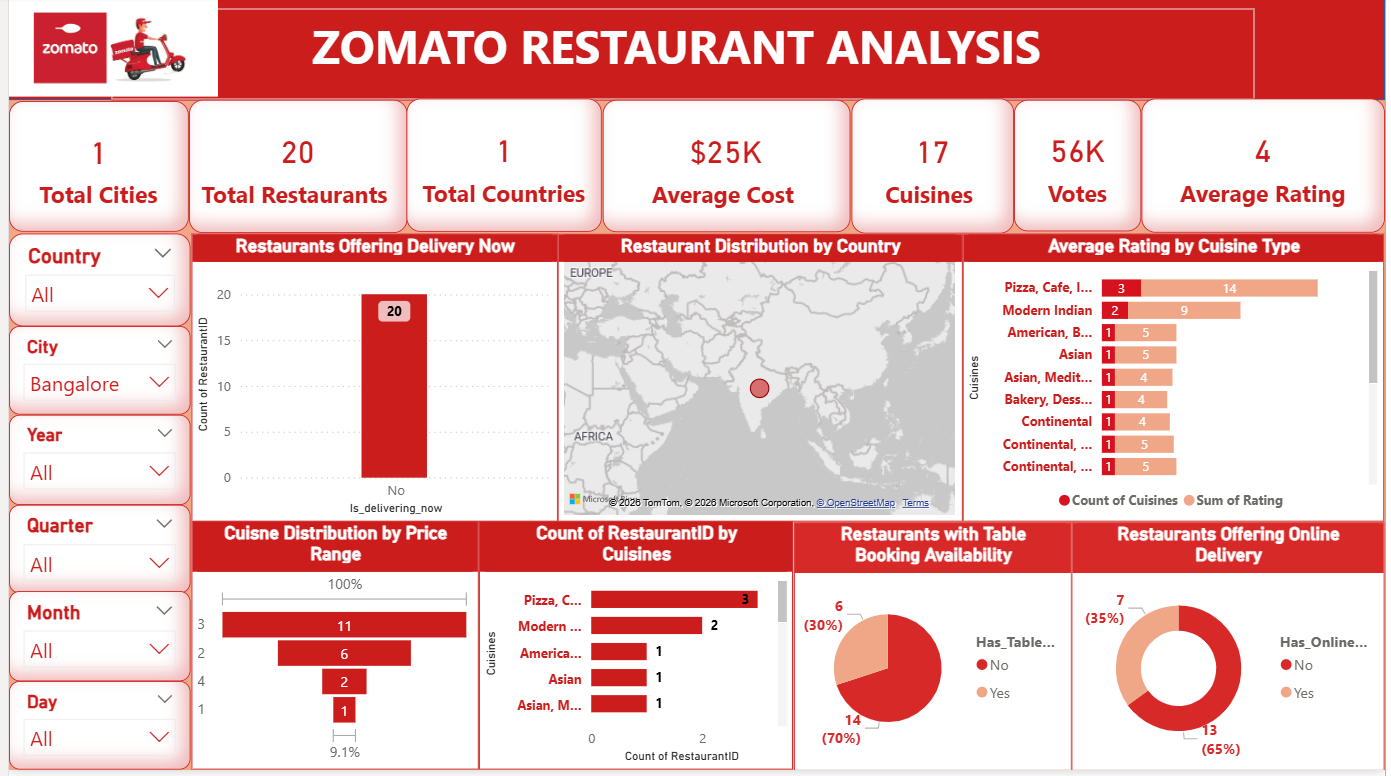

What the dashboard file says about the page in this screenshot:
{"tool":"powerbi","page":{"name":"Dashboard","canvas":[1280,720],"ordinal":0},"visuals":[{"type":"shape","box":[0,0,1280.3,97],"z":0},{"type":"textbox","box":[95.7,11.2,1062.7,85.8],"z":1000},{"type":"card","fields":{"Values":["Count(Main.RestaurantID)"]},"box":[167.2,96.7,202.9,124.1],"z":2000},{"type":"card","fields":{"Values":["Count(Main.City)"]},"box":[0,97.8,167.2,122],"z":3000},{"type":"card","fields":{"Values":["Count(Main.CountryCode)"]},"box":[370.1,95.7,181.9,124.1],"z":4000},{"type":"card","fields":{"Values":["Count(Main.Cuisines)"]},"box":[783.8,95.9,151,125.8],"z":5000},{"type":"slicer","fields":{"Values":["Main.Countryname"]},"box":[0,220.5,169,86.3],"z":6000},{"type":"card","fields":{"Values":["Sum(Main.Average_Cost_for_two)"]},"box":[552.5,97.1,230.1,123.4],"z":7000},{"type":"slicer","fields":{"Values":["Main.City"]},"box":[0,307.3,168.8,82.2],"z":8000},{"type":"slicer","fields":{"Values":["Main.Year Opening"]},"box":[0,389.5,168.8,83.7],"z":9000},{"type":"slicer","fields":{"Values":["Main.Quarter"]},"box":[0,473.2,168.8,82.2],"z":10000},{"type":"slicer","fields":{"Values":["Main.MonthName"]},"box":[0,554,168.8,83.7],"z":11000},{"type":"slicer","fields":{"Values":["Main.Day Opening"]},"box":[0,637.7,168.8,82.2],"z":12000},{"type":"lineStackedColumnComboChart","title":"Restaurants Offering Delivery Now","fields":{"Category":["Main.Is_delivering_now"],"Y":["CountNonNull(Main.RestaurantID)"]},"box":[170.3,220.8,340.7,268.1],"z":13000},{"type":"barChart","title":"Average Rating by Cuisine Type","fields":{"Category":["Main.Cuisines"],"Y":["CountNonNull(Main.Cuisines)","Sum(Main.Rating)"]},"box":[887.4,220.8,392.2,268.1],"z":14000},{"type":"map","title":"Restaurant Distribution by Country","fields":{"Category":["Country.Countryname"],"Size":["CountNonNull(Main.RestaurantName)"]},"box":[511,220.8,376.4,268.1],"z":15000},{"type":"clusteredBarChart","fields":{"Category":["Main.Cuisines"],"Y":["CountNonNull(Main.RestaurantID)"]},"box":[437.4,488.9,292.3,231.3],"z":16000},{"type":"funnel","title":"Cuisne Distribution by Price Range","fields":{"Category":["Main.Price_range"],"Y":["CountNonNull(Main.Cuisines)"]},"box":[170.3,488.9,267.1,231.3],"z":17000},{"type":"pieChart","title":"Restaurants with Table Booking Availability","fields":{"Category":["Main.Has_Table_booking"],"Y":["CountNonNull(Main.RestaurantID)"]},"box":[730,489.1,258.3,230.8],"z":18000},{"type":"card","fields":{"Values":["Sum(Main.Votes)"]},"box":[934.8,97.1,118.7,122.2],"z":19000},{"type":"image","box":[0,0,194.2,97.1],"z":20000},{"type":"card","fields":{"Values":["Avg(Main.Rating)"]},"box":[1053.5,95.9,226.5,124.6],"z":21000},{"type":"donutChart","title":"Restaurants Offering Online Delivery","fields":{"Category":["Main.Has_Online_delivery"],"Y":["CountNonNull(Main.RestaurantID)"]},"box":[988,489,291,231],"z":22000}]}

Visuals, with their boxes in screenshot pixels (x1, y1, x2, y2), scaled from the page's 1280x720 canvas onto the 1391x776 screenshot:
shape: [0,0,1390,105]
textbox: [104,12,1259,105]
card - Count(Main.RestaurantID): [182,104,402,238]
card - Count(Main.City): [0,105,182,237]
card - Count(Main.CountryCode): [402,103,600,237]
card - Count(Main.Cuisines): [852,103,1016,239]
slicer - Main.Countryname: [0,238,184,331]
card - Sum(Main.Average_Cost_for_two): [600,105,850,238]
slicer - Main.City: [0,331,183,420]
slicer - Main.Year Opening: [0,420,183,510]
slicer - Main.Quarter: [0,510,183,599]
slicer - Main.MonthName: [0,597,183,687]
slicer - Main.Day Opening: [0,687,183,775]
"Restaurants Offering Delivery Now" lineStackedColumnComboChart: [185,238,555,527]
"Average Rating by Cuisine Type" barChart: [964,238,1390,527]
"Restaurant Distribution by Country" map: [555,238,964,527]
clusteredBarChart - Main.Cuisines x CountNonNull(Main.RestaurantID): [475,527,793,775]
"Cuisne Distribution by Price Range" funnel: [185,527,475,775]
"Restaurants with Table Booking Availability" pieChart: [793,527,1074,775]
card - Sum(Main.Votes): [1016,105,1145,236]
image: [0,0,211,105]
card - Avg(Main.Rating): [1145,103,1390,238]
"Restaurants Offering Online Delivery" donutChart: [1074,527,1390,775]
